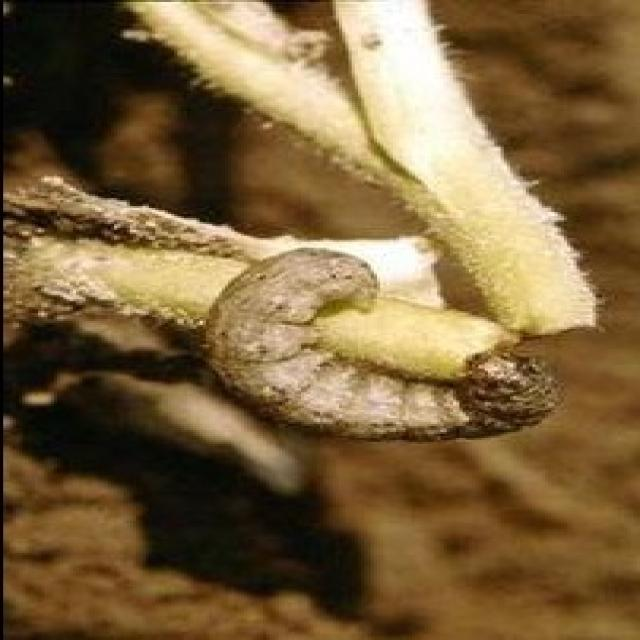black cutworm: (204, 247, 571, 445)
